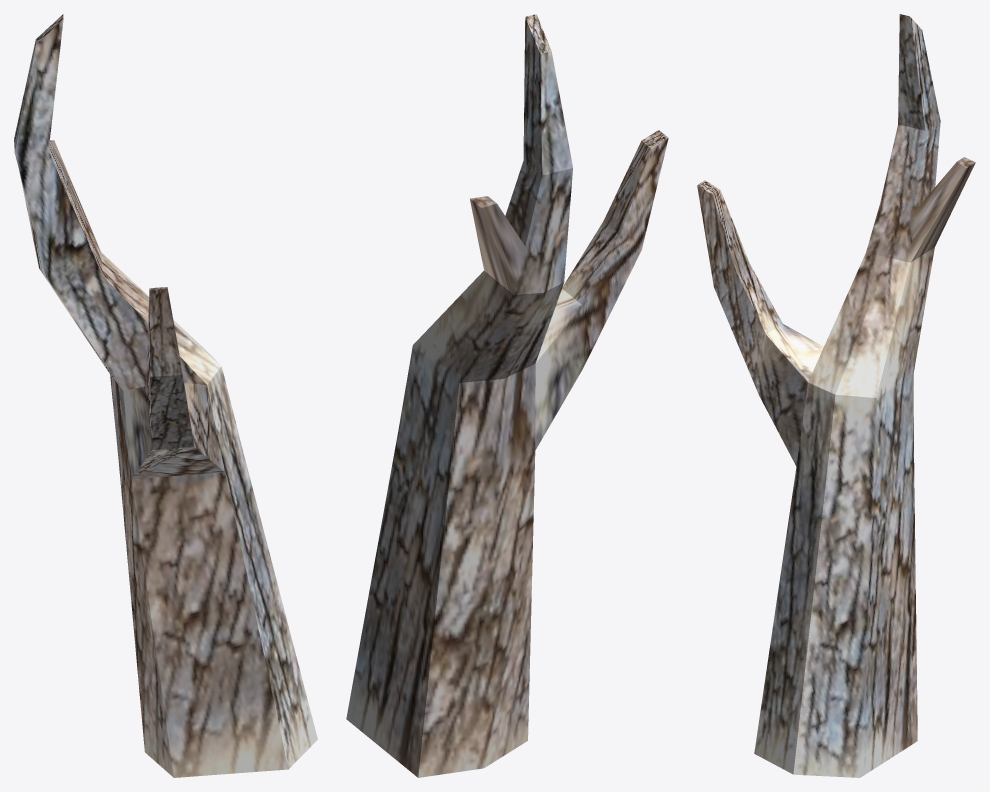
The model's file is TDTree.fbx.
3 renders of one model, left to right at view 1: azimuth 30°, elevation 25°; view 2: azimuth 150°, elevation 25°; view 3: azimuth 270°, elevation 25°, orthographic. The views are drawn at different scales.
Parts seen in each view (by area): view 1: pCube1; view 2: pCube1; view 3: pCube1.
Part boxes in pixels (x1,y1,x2,y2): pCube1: [14, 14, 317, 777]; pCube1: [346, 14, 668, 777]; pCube1: [697, 14, 975, 777].
Bounding box in the file's own units: 2.08 × 6.04 × 2.24.
